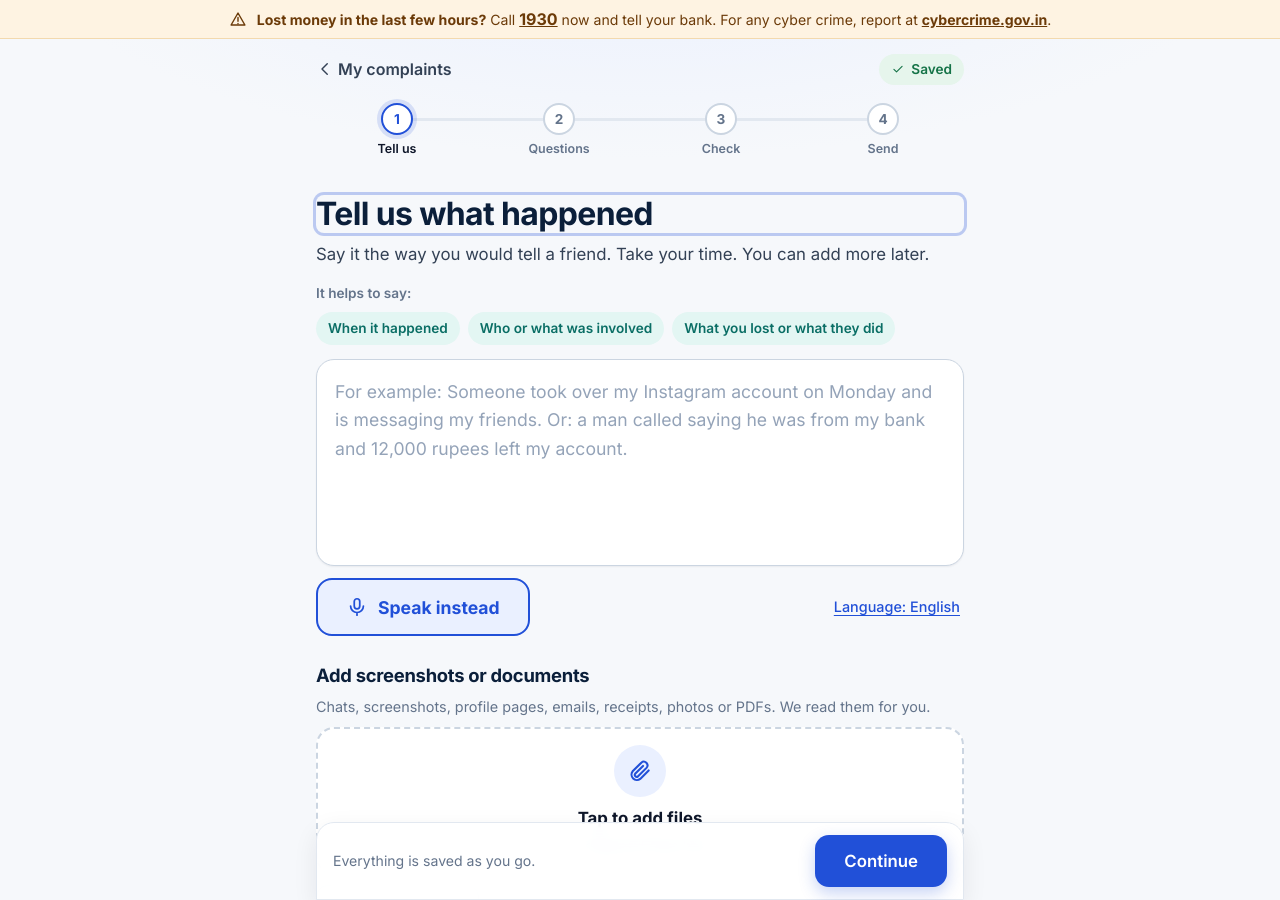
Test case: step 2: check your story › says what went wrong in plain words and lets the person retry
What coordinates should you click on to do the following:
click the button "Continue"
I would click on:
 (881, 861)
Its box is [815, 835, 947, 887].
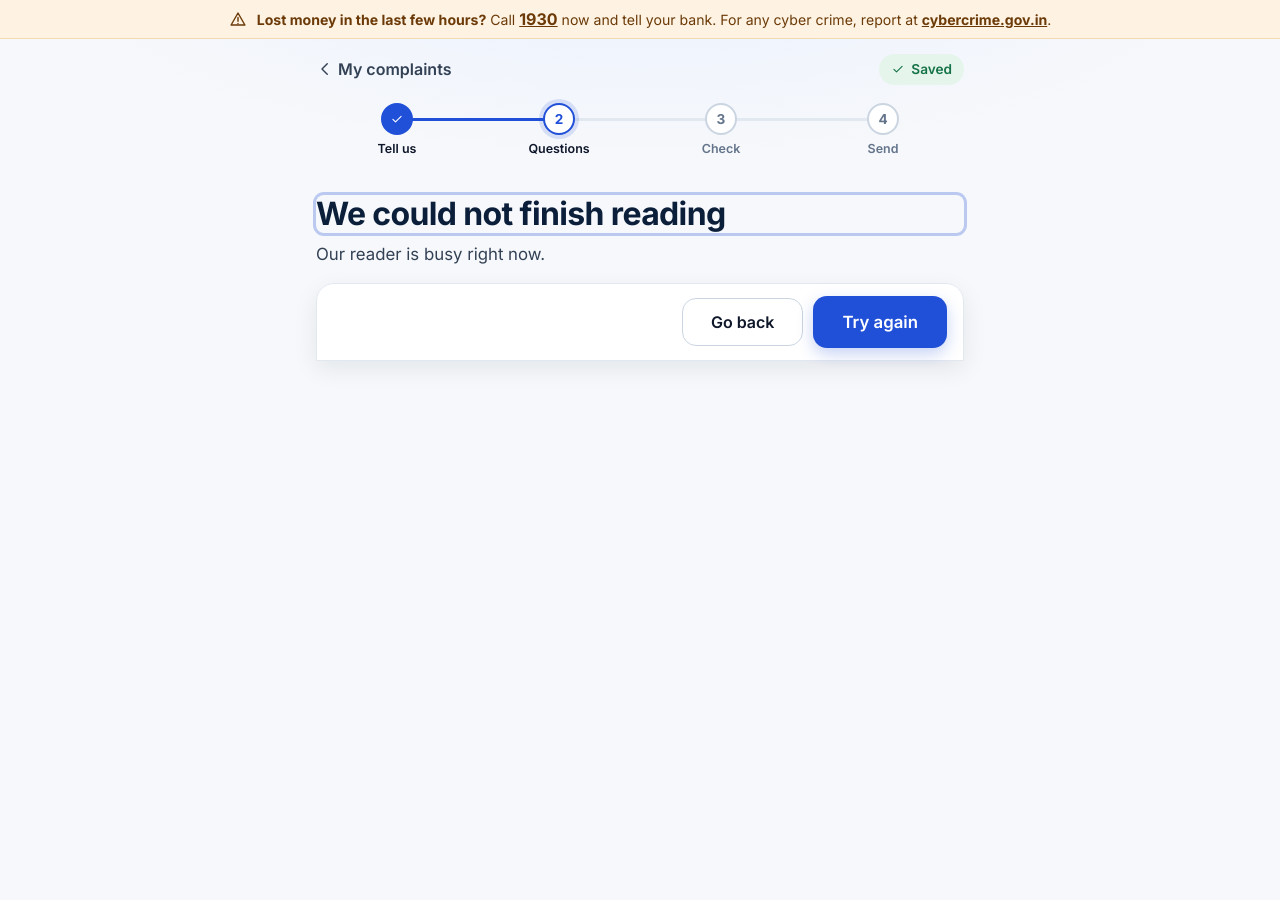
Expected: the text "Our reader is busy right now." is shown, [316, 244, 545, 264]
Expected: the button "Try again" is shown, [813, 296, 947, 348]
